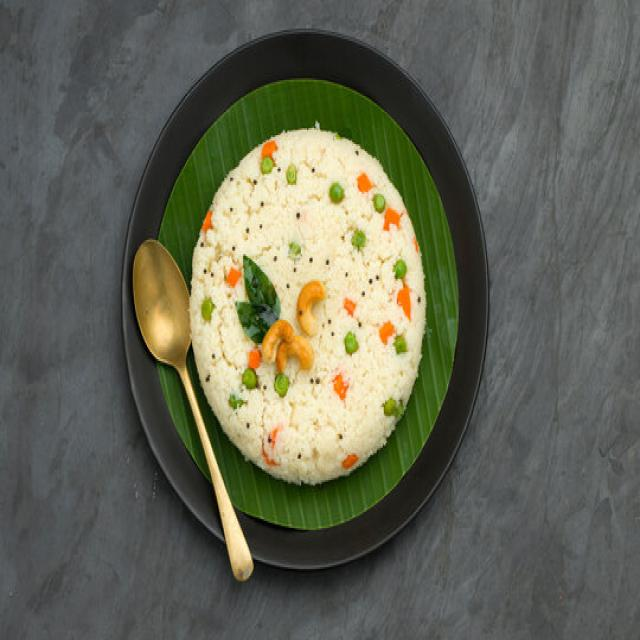UPMA: (191, 128, 425, 484)
